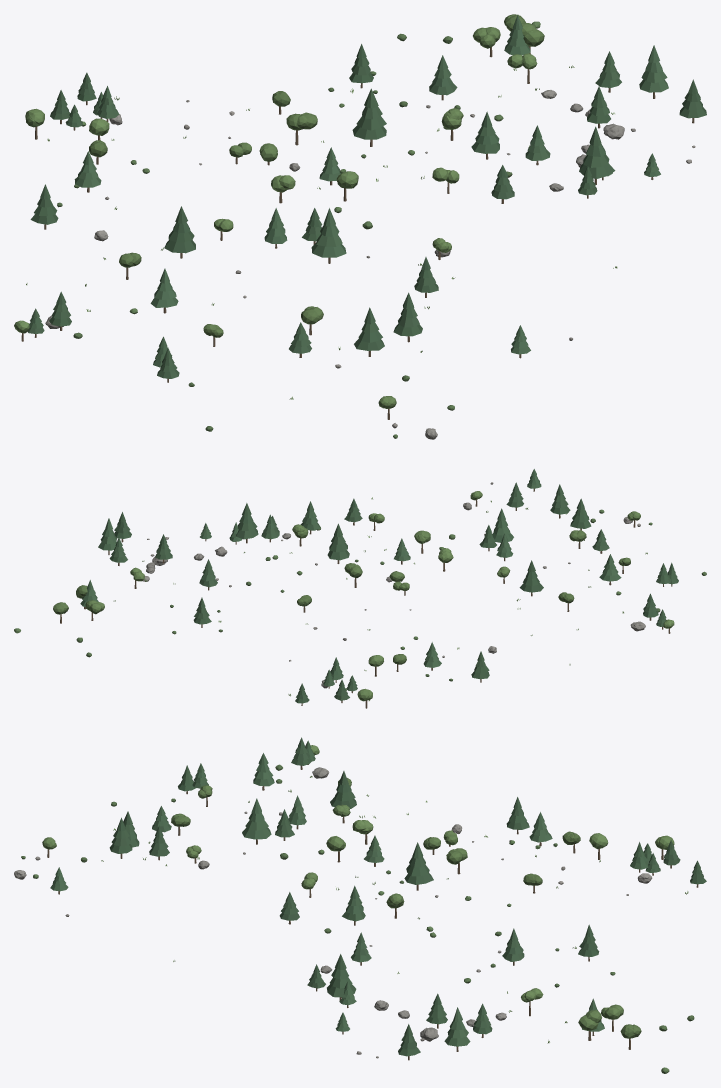
Rendered from arch_land_scatter_c16_21.glb.
3 renders of one model, top to bottom at view 1: azimuth 30°, elevation 25°; view 2: azimuth 150°, elevation 25°; view 3: azimuth 270°, elevation 25°, orthographic. The views are drawn at different scales.
Parts seen in each view (by area): view 1: arch_land_scatter_c16_21; view 2: arch_land_scatter_c16_21; view 3: arch_land_scatter_c16_21.
Part boxes in pixels (x1,y1,x2,y2): arch_land_scatter_c16_21: (14,14,706,439); arch_land_scatter_c16_21: (14,469,706,708); arch_land_scatter_c16_21: (14,737,706,1073).
Size of the model in its own units: 216 by 36.5 by 209.
